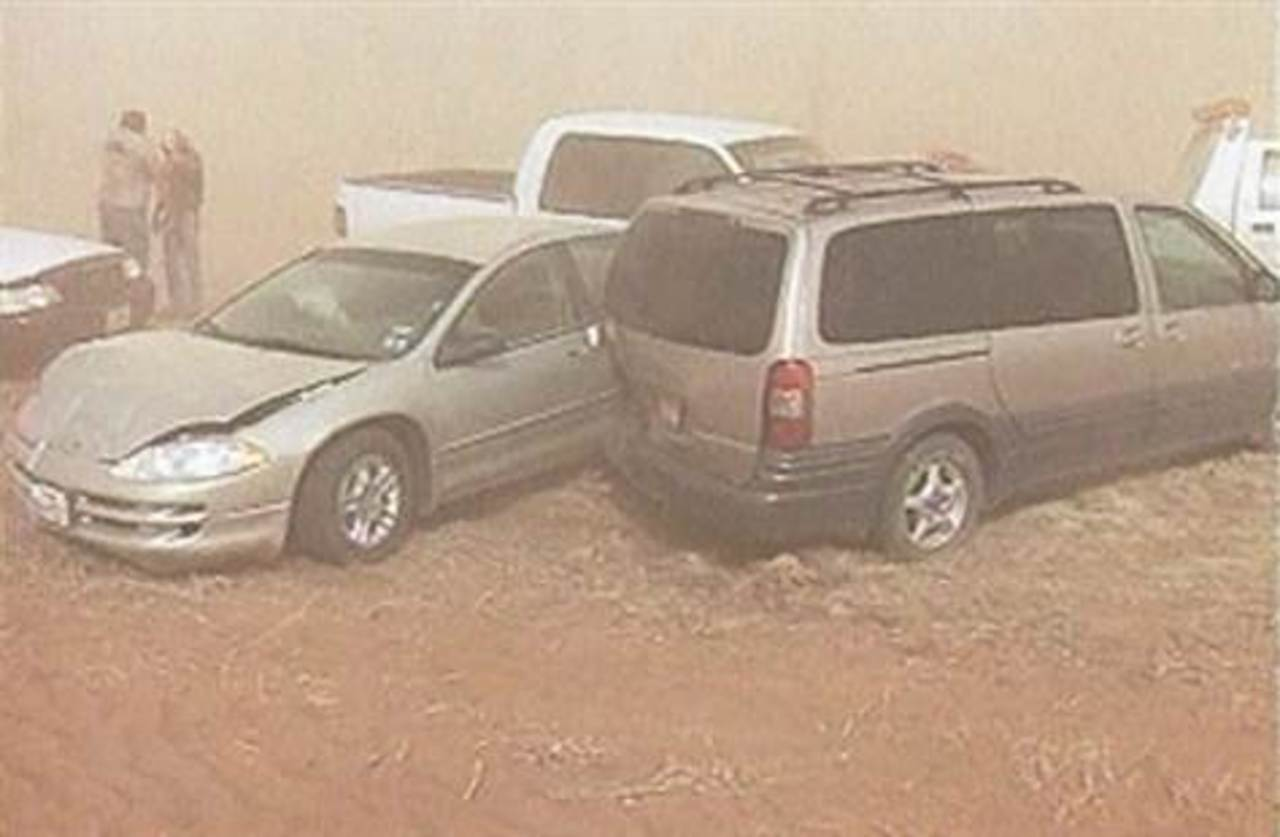car: (597, 157, 1279, 565), (17, 223, 651, 579), (327, 90, 833, 277), (2, 195, 143, 387)
person: (157, 120, 207, 303), (99, 106, 153, 270)
